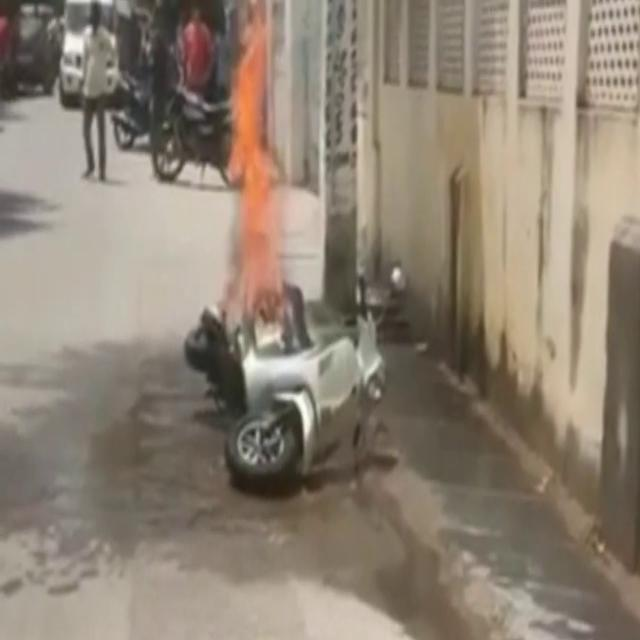Fire: (216, 7, 296, 349)
